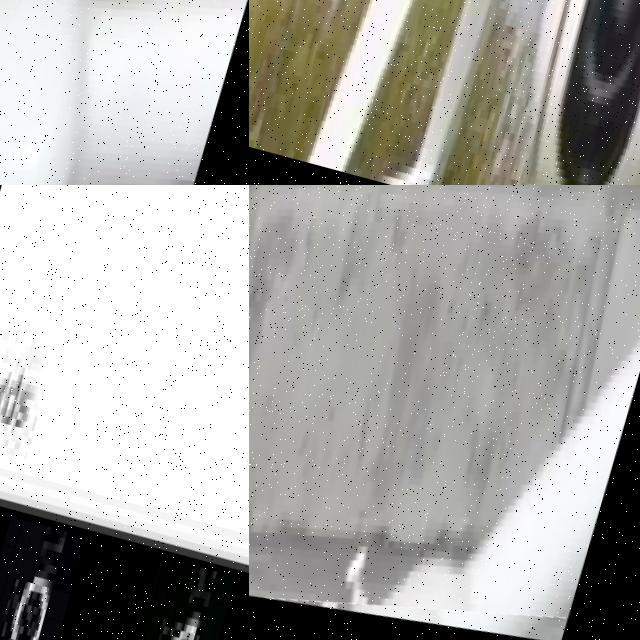drone: (249, 185, 640, 640), (0, 0, 249, 185)
